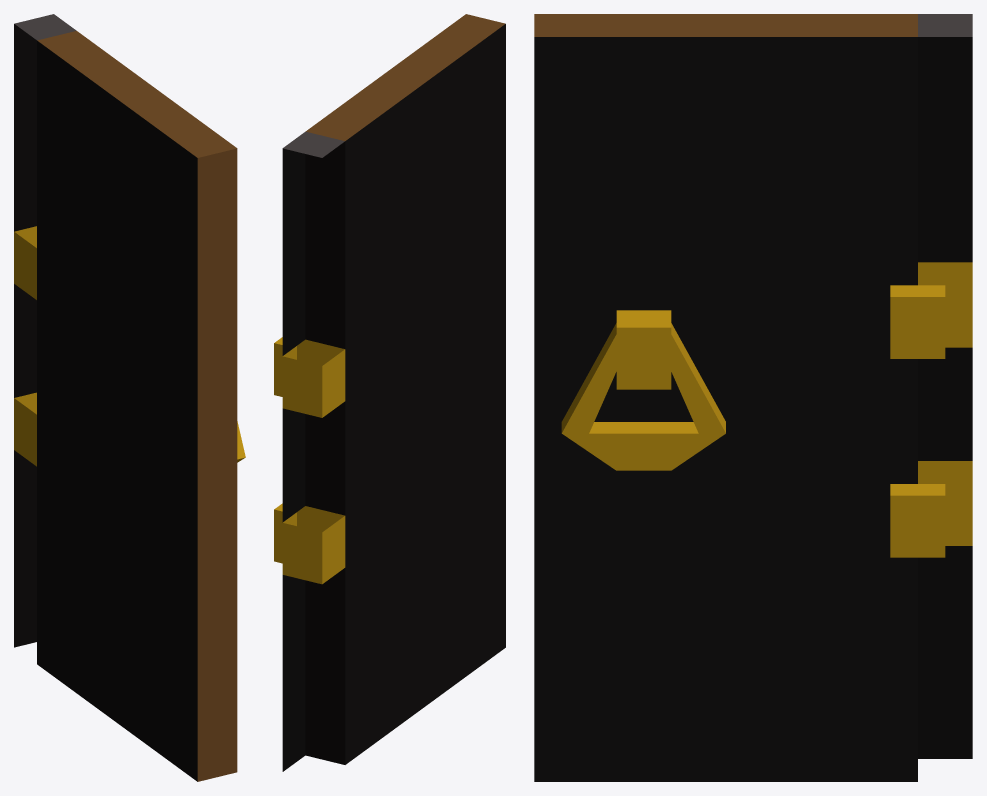
File: obj_large_door_9_0.obj
The picture shows the model from 3 angles, left to right: view 1: azimuth 30°, elevation 25°; view 2: azimuth 150°, elevation 25°; view 3: azimuth 270°, elevation 25°; orthographic projection. The views are drawn at different scales.
Bounding box in the file's own units: 0.2188 × 1.88 × 1.
